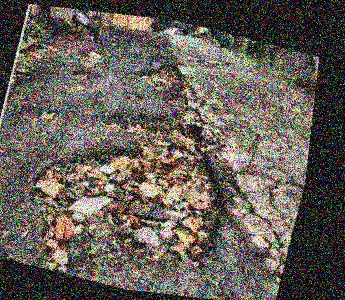pothole: (10, 83, 252, 300), (134, 57, 191, 96), (76, 45, 111, 71), (71, 67, 91, 84)
